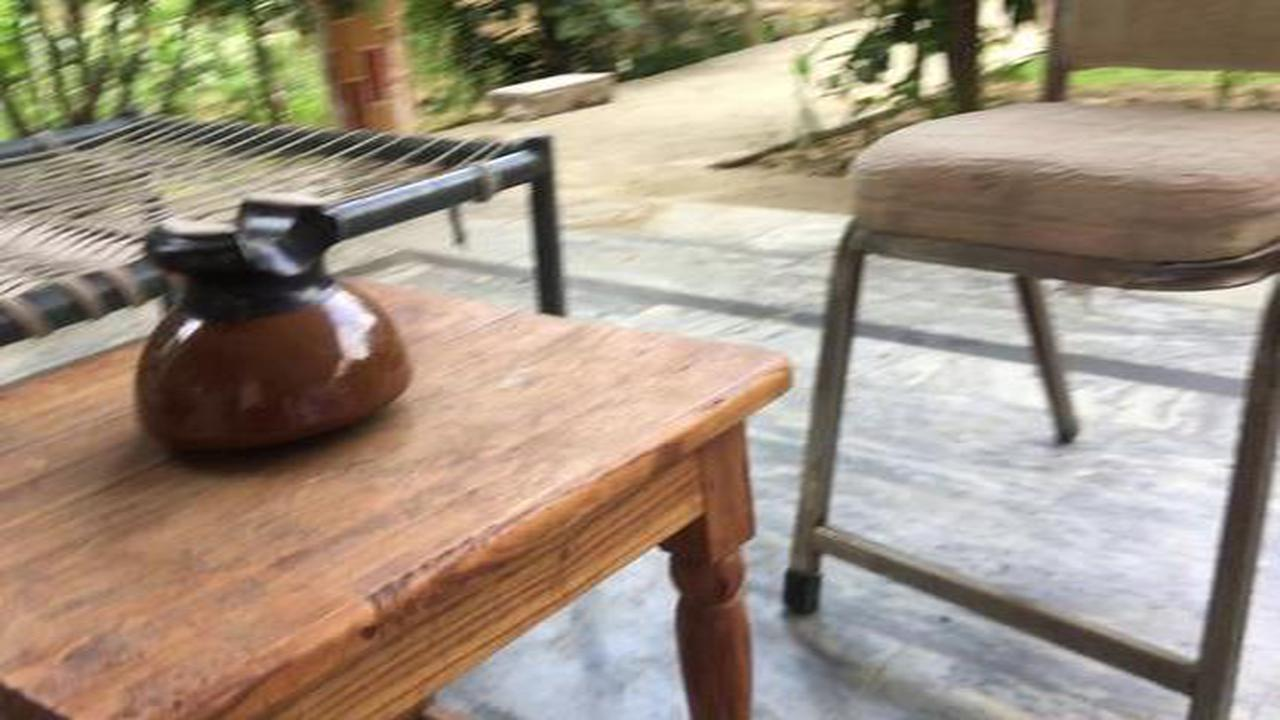insulator_pin: (124, 174, 422, 473)
